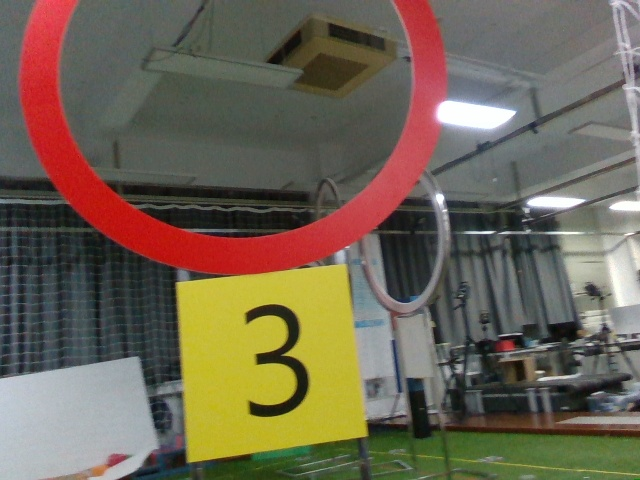target: (179, 279, 359, 448)
